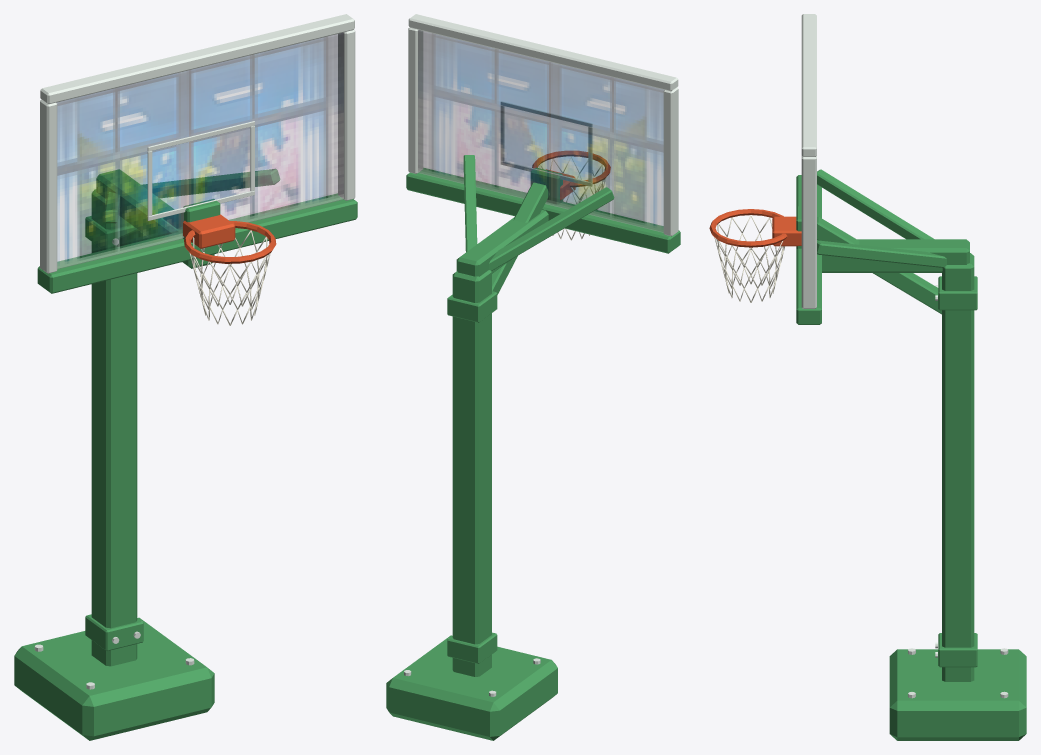
File: P09_basketball_hoop_v2.glb
The picture shows the model from 3 angles, left to right: view 1: azimuth 30°, elevation 25°; view 2: azimuth 150°, elevation 25°; view 3: azimuth 270°, elevation 25°; orthographic projection. The views are drawn at different scales.
Parts seen in each view (by area): view 1: GAME_Green painted steel, GAME_V2_Backboard_reflection, GAME_White painted frame, GAME_Orange red rim, GAME_V2_Net_rope; view 2: GAME_Green painted steel, GAME_V2_Backboard_reflection, GAME_White painted frame, GAME_Orange red rim; view 3: GAME_Green painted steel, GAME_White painted frame, GAME_V2_Net_rope, GAME_Orange red rim.
Boxes of the visible parts, bbox=[...] form: GAME_Green painted steel: bbox=[14, 168, 357, 740]; GAME_V2_Backboard_reflection: bbox=[57, 32, 343, 269]; GAME_White painted frame: bbox=[34, 14, 355, 689]; GAME_Orange red rim: bbox=[183, 214, 276, 263]; GAME_V2_Net_rope: bbox=[189, 230, 270, 325]; GAME_Green painted steel: bbox=[386, 155, 680, 740]; GAME_V2_Backboard_reflection: bbox=[418, 30, 663, 232]; GAME_White painted frame: bbox=[404, 14, 678, 696]; GAME_Orange red rim: bbox=[532, 150, 610, 200]; GAME_Green painted steel: bbox=[796, 169, 1026, 740]; GAME_White painted frame: bbox=[801, 14, 1008, 698]; GAME_V2_Net_rope: bbox=[714, 215, 784, 302]; GAME_Orange red rim: bbox=[709, 209, 801, 247].
Bounding box in the file's own units: 1.87 × 4.09 × 1.85.
5 materials, 1 textured.
